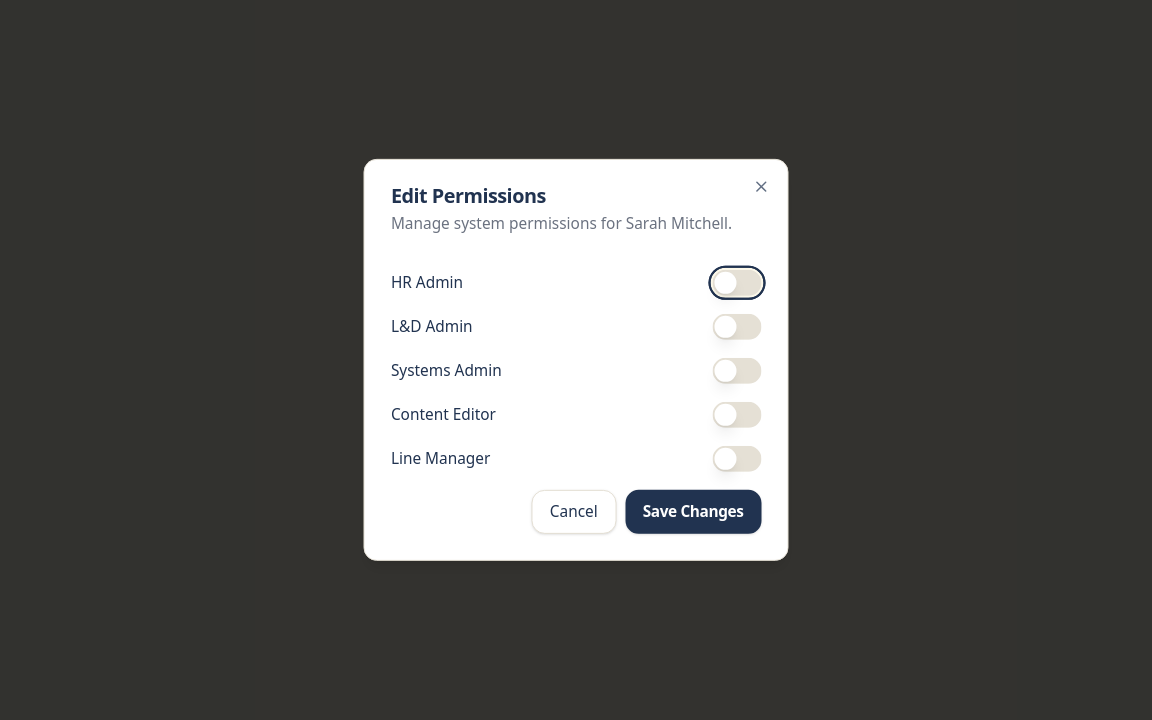
it: PermissionsEditDialog › shows error on save failure
The width and height of the screenshot is (1152, 720).
# Toggle and save
Step 1. Click the switch in the row of "Line Manager" → (737, 459), box x1=713 y1=446 x2=761 y2=472
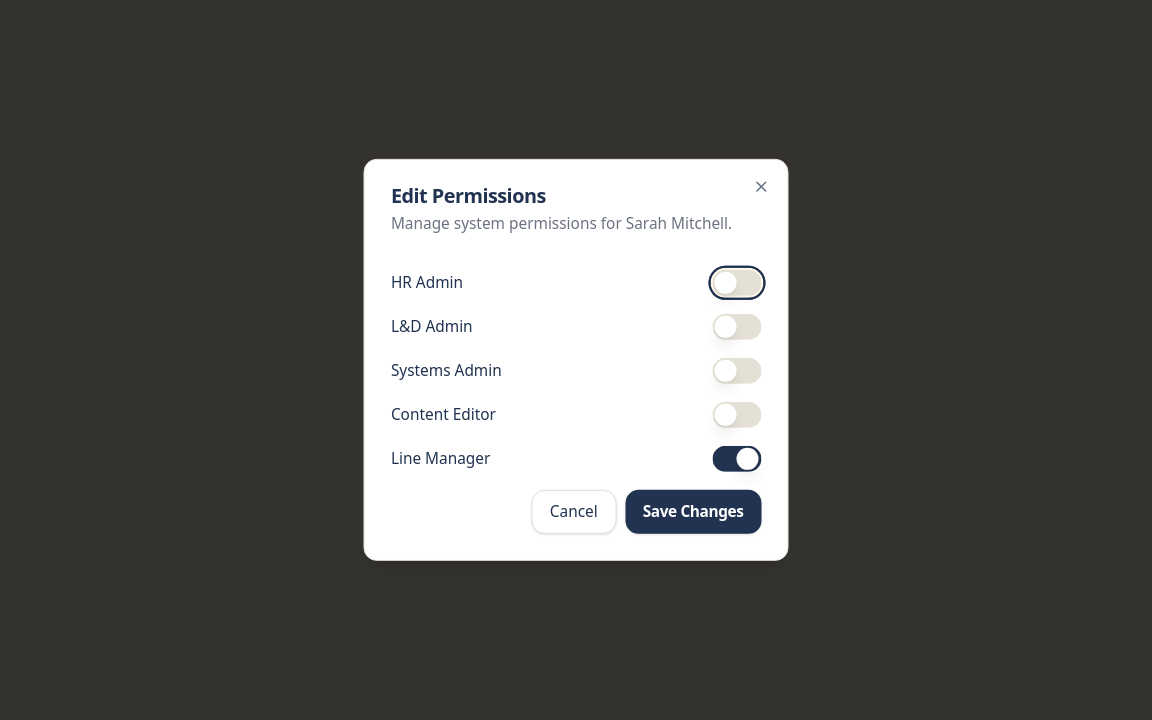
Step 2. Click the button "Save Changes" → (693, 512), box x1=625 y1=490 x2=761 y2=534
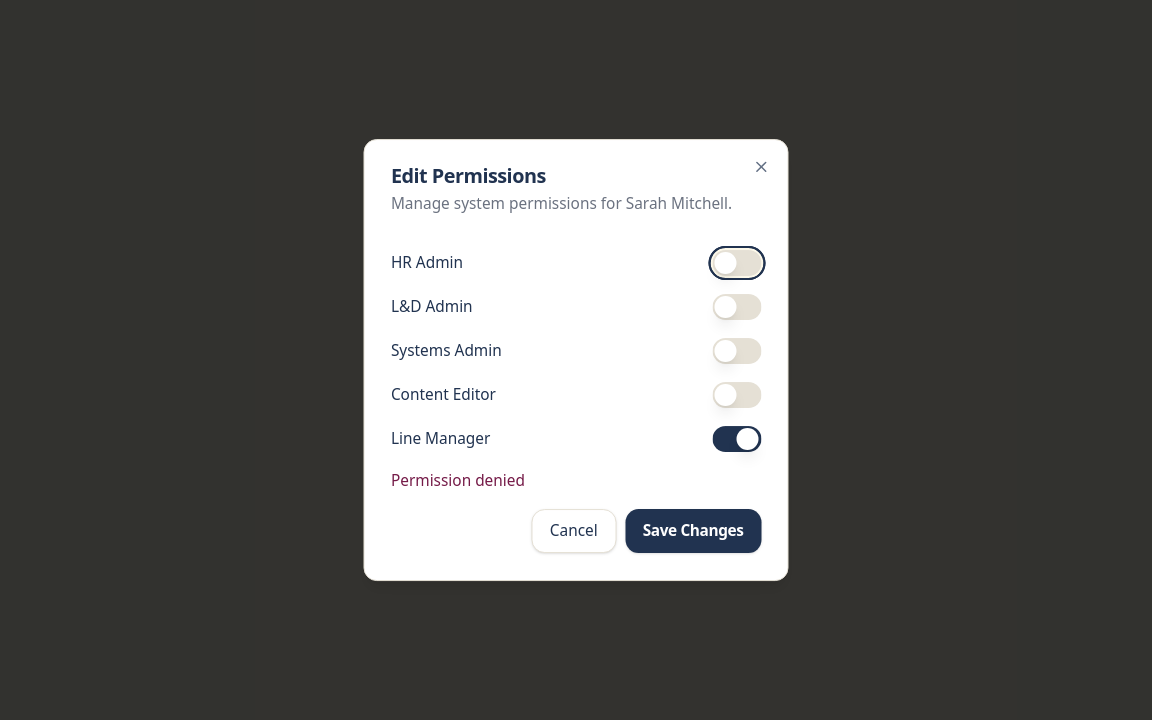
Result: the text "Permission denied" is shown at x1=391 y1=470 x2=525 y2=491
